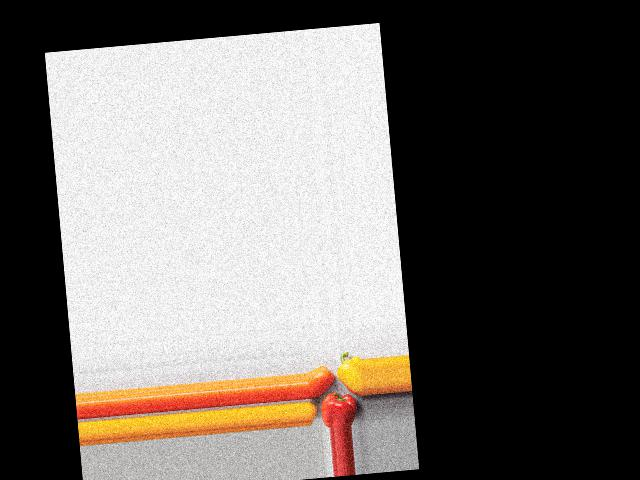bell_pepper: (320, 391, 361, 427)
